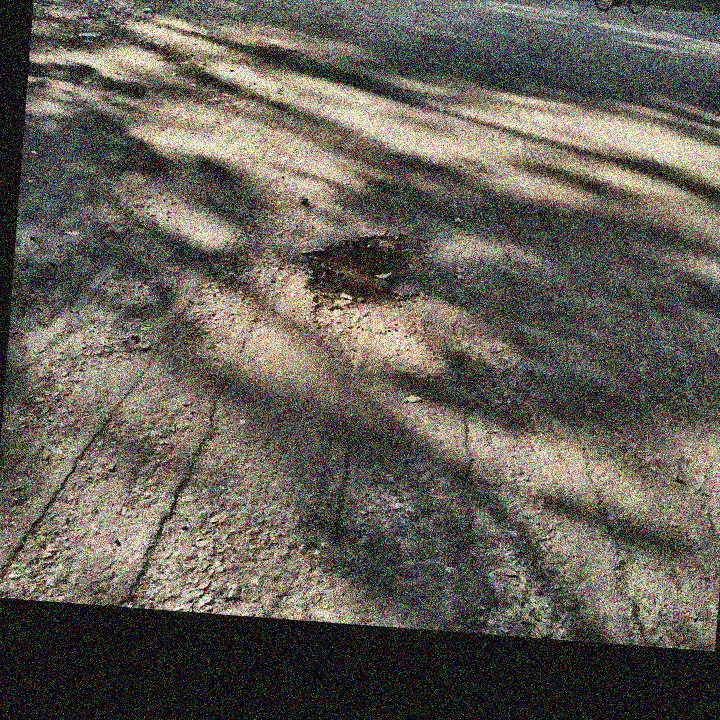pothole: (289, 221, 436, 328)
